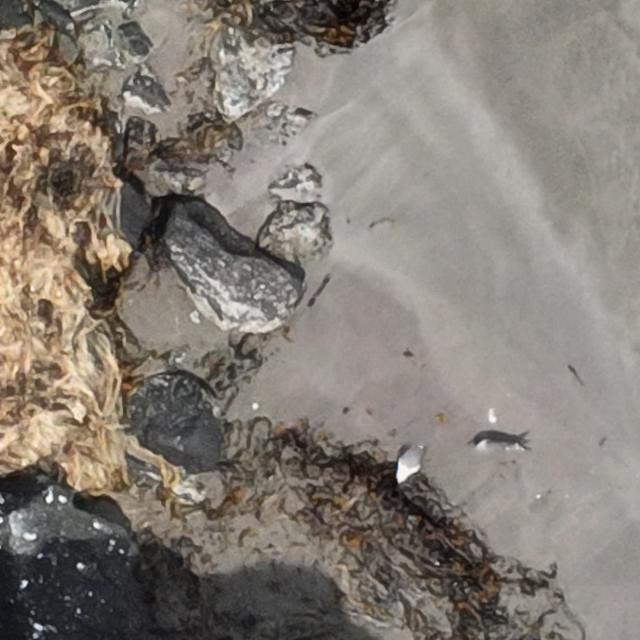umineko: (397, 446, 421, 478), (475, 438, 514, 454)
